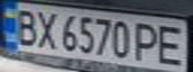0: (109, 17, 133, 60)
5: (75, 13, 96, 55)
6: (57, 11, 81, 52)
7: (90, 16, 115, 56)
B: (9, 6, 42, 47)
E: (154, 21, 190, 66)
P: (133, 19, 163, 64)
X: (33, 8, 60, 50)
